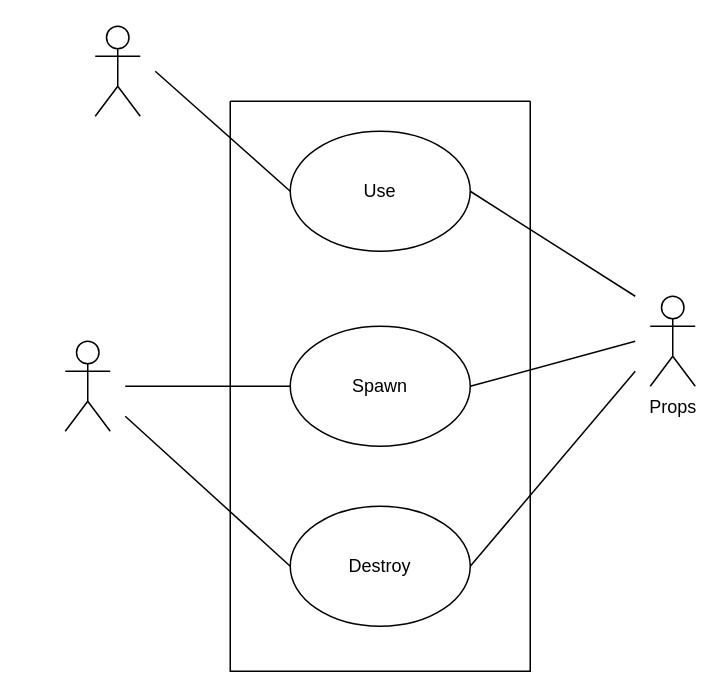
Some shapes in this 722 by 698 pixel diagram are drawn without their labels. The shapes that lost their labels are listed below. From the top down, each one's centre as x and y in pixels, then its label:
At point (117, 70): "Pacman".
At point (87, 385): "Props Manager".
